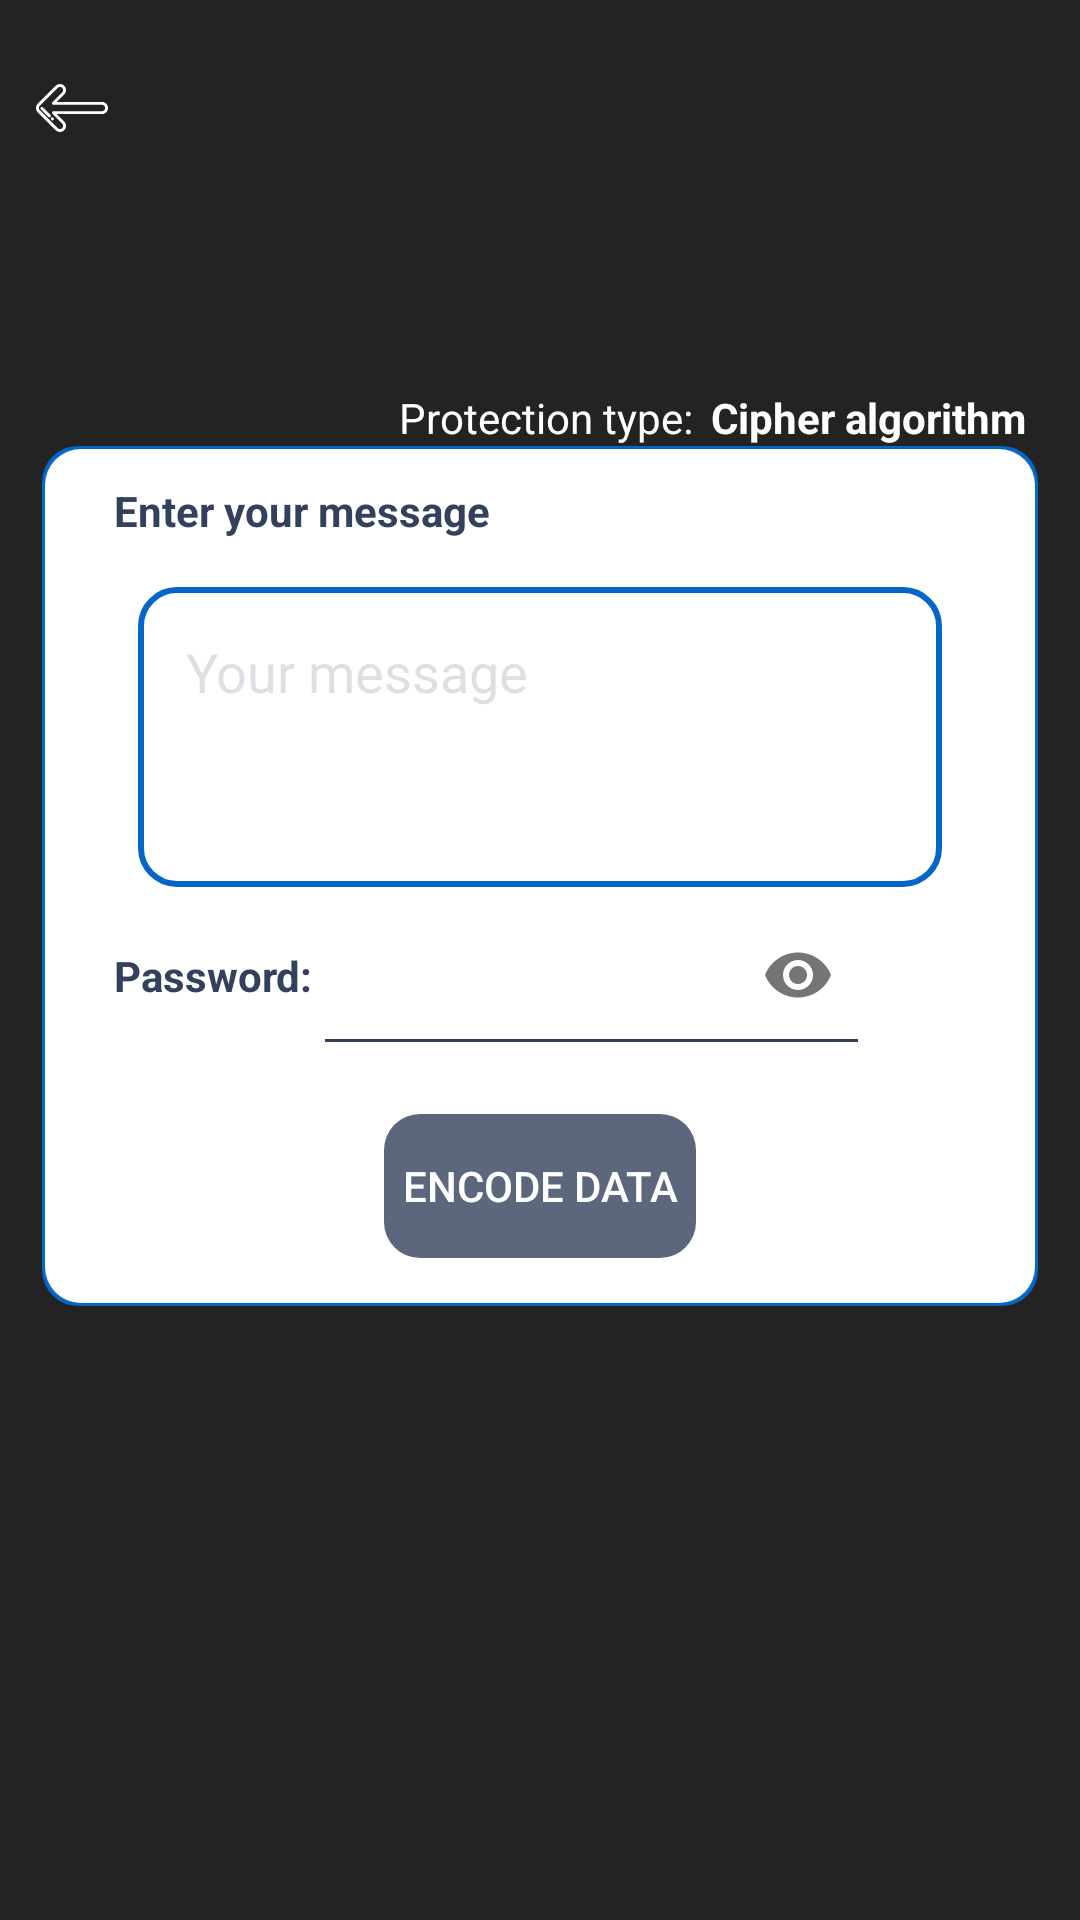

Screen size 1080px x 1920px. Icon name, then its center in pixels as (x,y):
arrow back: (72,108)
